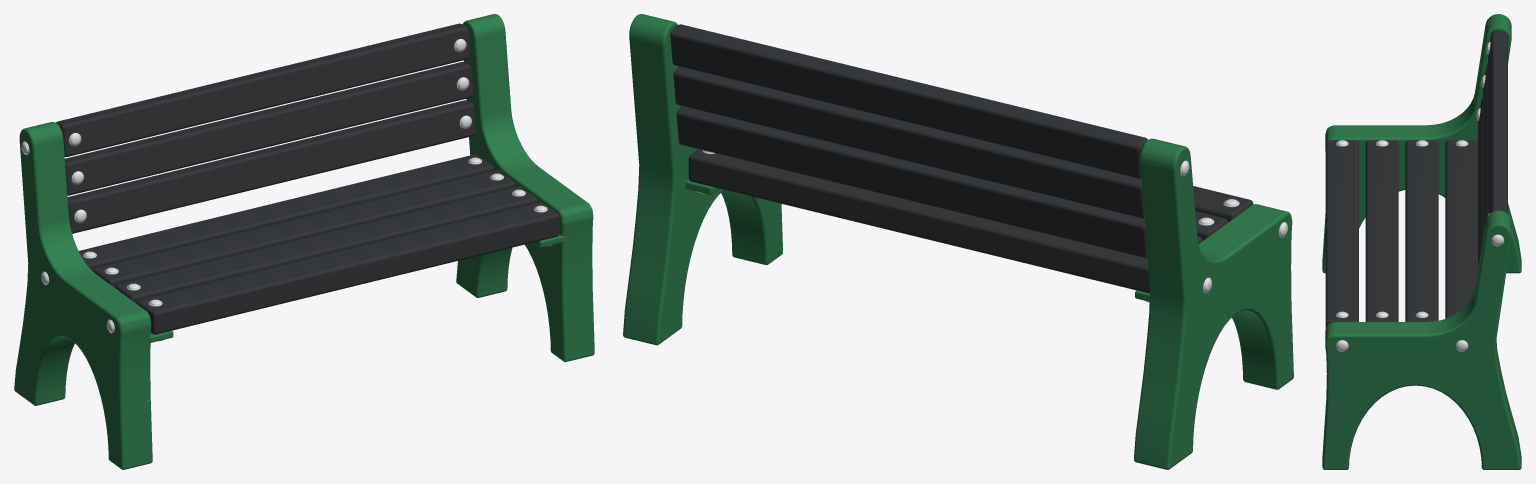
The model's file is banca-claude.glb.
The picture shows the model from 3 angles, left to right: view 1: azimuth 30°, elevation 25°; view 2: azimuth 150°, elevation 25°; view 3: azimuth 270°, elevation 25°; orthographic projection. The views are drawn at different scales.
Visible parts, largest first — view 1: Claude | Soporte izquierdo, Claude | Soporte derecho, Claude | Asiento listón 01, Claude | Respaldo listón 03, Claude | Respaldo listón 02, Claude | Respaldo listón 01, Claude | Asiento listón 03, Claude | Asiento listón 02, Claude | Asiento listón 04; view 2: Claude | Soporte izquierdo, Claude | Soporte derecho, Claude | Respaldo listón 03, Claude | Respaldo listón 02, Claude | Respaldo listón 01, Claude | Asiento listón 04, Claude | Asiento listón 01; view 3: Claude | Soporte derecho, Claude | Asiento listón 01, Claude | Soporte izquierdo, Claude | Asiento listón 02, Claude | Asiento listón 03, Claude | Asiento listón 04, Claude | Respaldo listón 03, Claude | Respaldo listón 02, Claude | Respaldo listón 01.
Boxes of the visible parts, <box> form: Claude | Soporte izquierdo: <box>14,122,152,469</box>; Claude | Soporte derecho: <box>456,14,594,361</box>; Claude | Asiento listón 01: <box>136,202,559,334</box>; Claude | Respaldo listón 03: <box>56,23,470,156</box>; Claude | Respaldo listón 02: <box>65,62,473,195</box>; Claude | Respaldo listón 01: <box>67,100,476,233</box>; Claude | Asiento listón 03: <box>93,170,515,287</box>; Claude | Asiento listón 02: <box>115,186,537,303</box>; Claude | Asiento listón 04: <box>79,154,493,270</box>; Claude | Soporte izquierdo: <box>1134,138,1293,469</box>; Claude | Soporte derecho: <box>623,14,782,345</box>; Claude | Respaldo listón 03: <box>670,24,1147,178</box>; Claude | Respaldo listón 02: <box>673,66,1144,218</box>; Claude | Respaldo listón 01: <box>676,106,1147,258</box>; Claude | Asiento listón 04: <box>688,149,1149,293</box>; Claude | Asiento listón 01: <box>1193,186,1253,222</box>; Claude | Soporte derecho: <box>1322,210,1521,469</box>; Claude | Asiento listón 01: <box>1325,140,1358,328</box>; Claude | Soporte izquierdo: <box>1322,14,1521,273</box>; Claude | Asiento listón 02: <box>1365,140,1398,321</box>; Claude | Asiento listón 03: <box>1405,140,1438,321</box>; Claude | Asiento listón 04: <box>1445,140,1477,318</box>; Claude | Respaldo listón 03: <box>1488,30,1507,214</box>; Claude | Respaldo listón 02: <box>1483,64,1487,236</box>; Claude | Respaldo listón 01: <box>1478,97,1482,268</box>.
Bounding box in the file's own units: 1.52 × 0.8191 × 0.5985.
